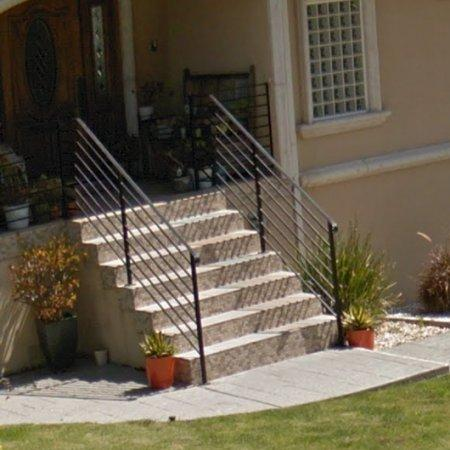stairs: (75, 119, 337, 384)
